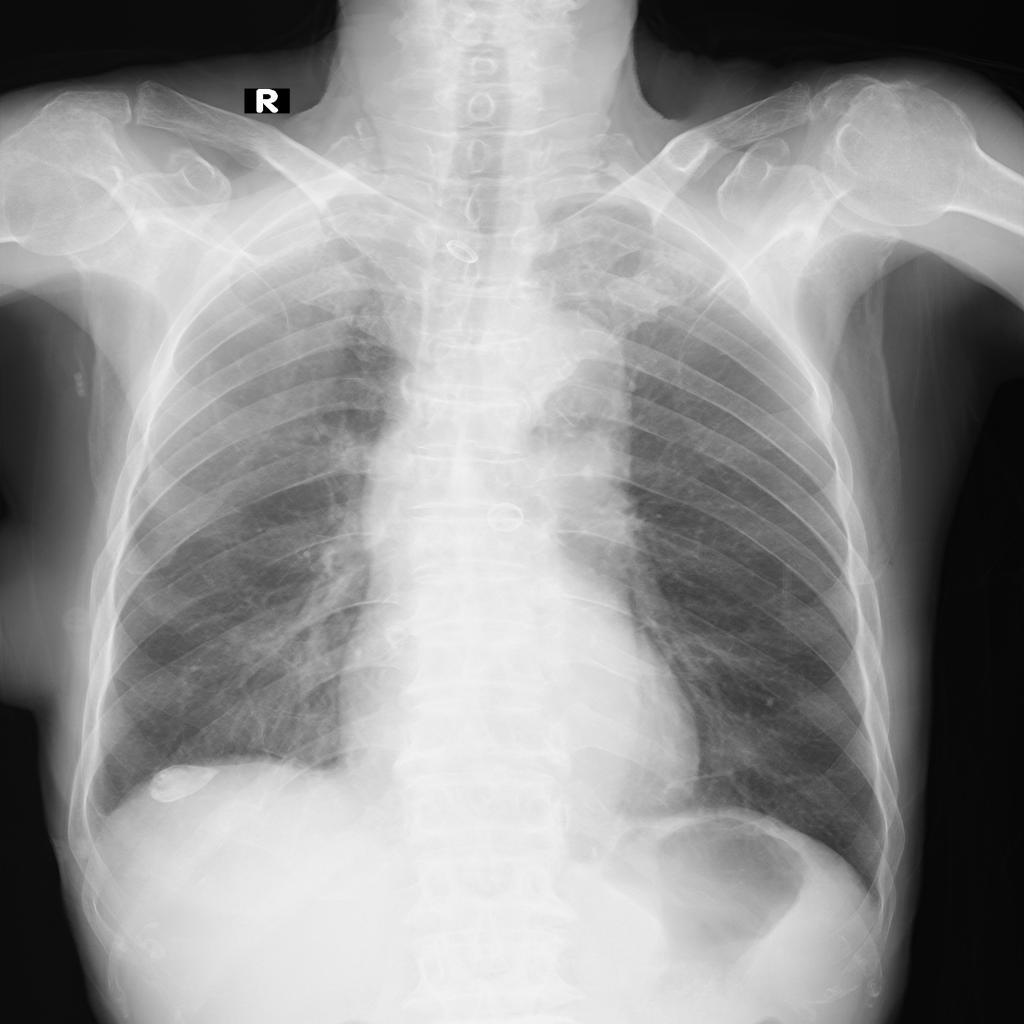Nodule: (148, 761, 215, 807)
